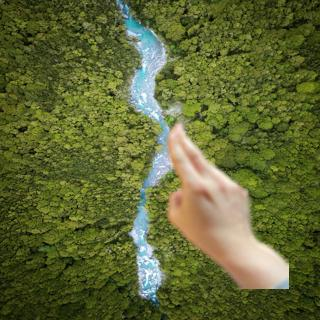DHAVE: (157, 117, 256, 259)
